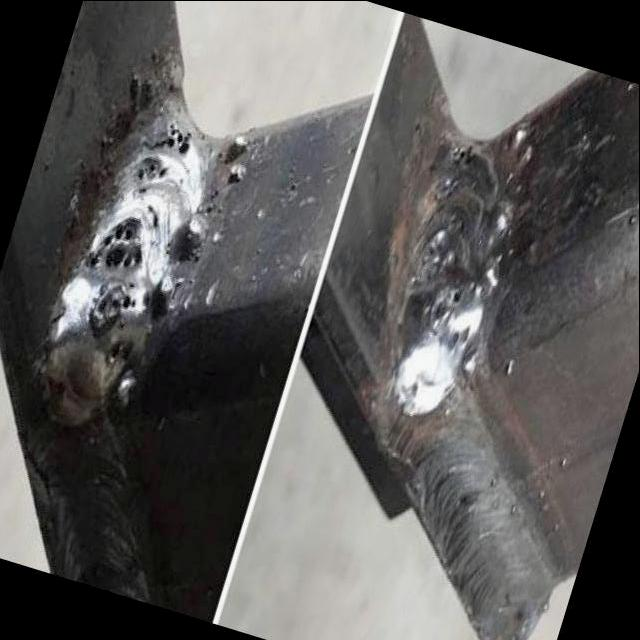defect: (133, 118, 198, 187), (84, 208, 147, 278), (90, 277, 140, 336), (424, 280, 466, 331), (446, 321, 476, 352)
